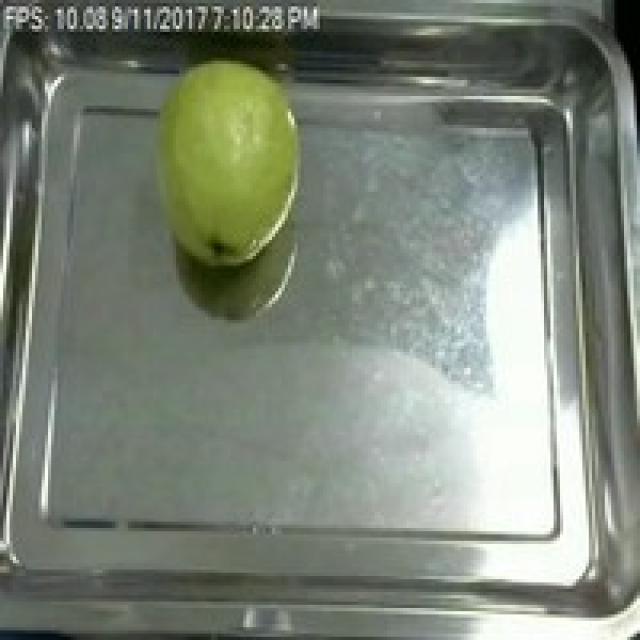Fruit: (138, 48, 314, 278)
